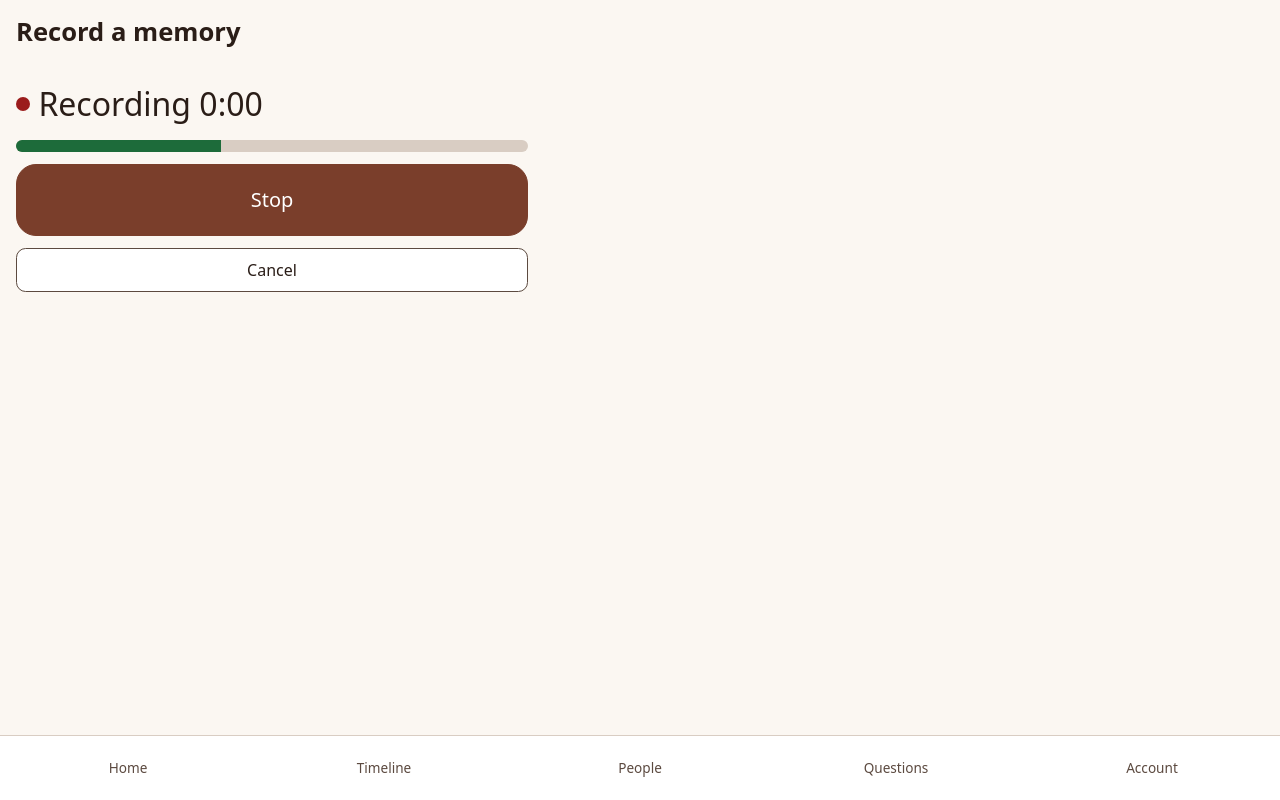
after Stop the take plays at once and its upload is shown
Click the button "Stop" at {"x": 272, "y": 200}, box [16,164,528,236]
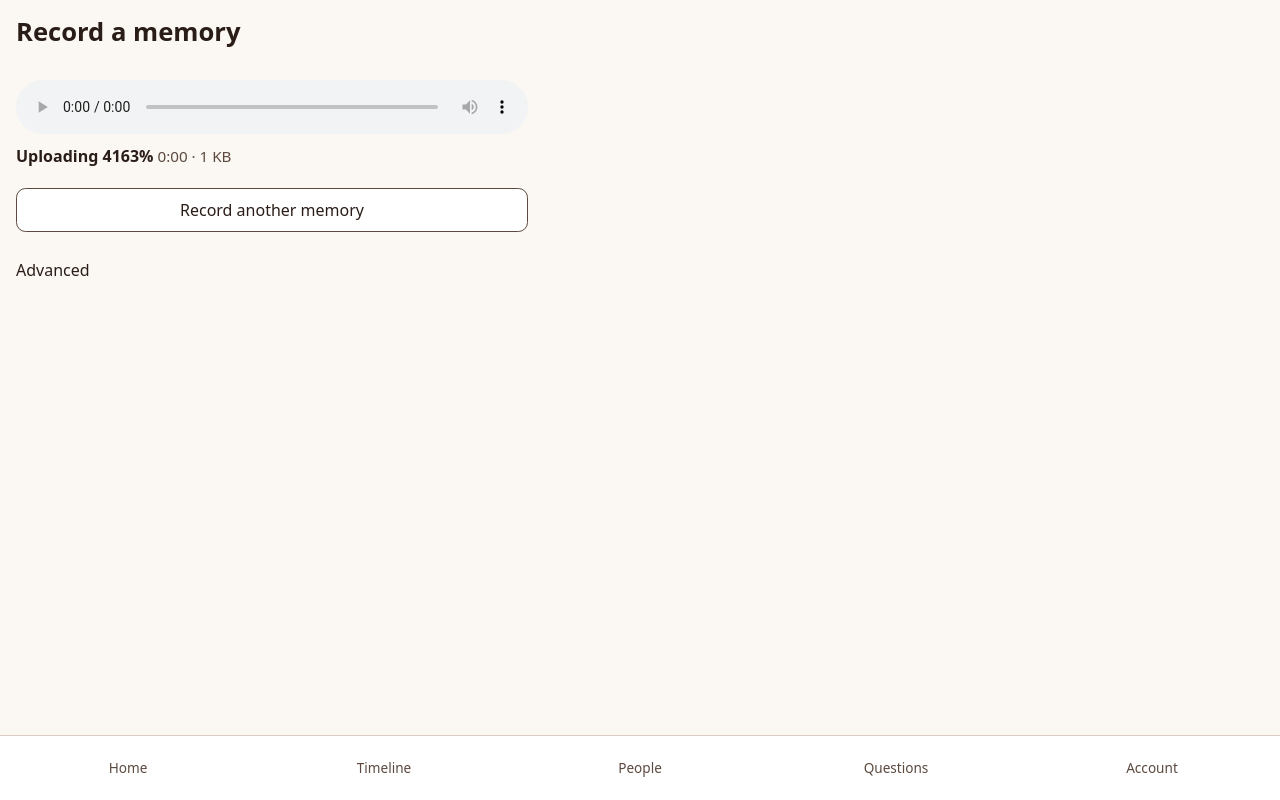
Now the button "Record another memory" is shown, box [16,188,528,232]
Now the text "Uploading 4163%" is shown, box [16,145,154,167]
